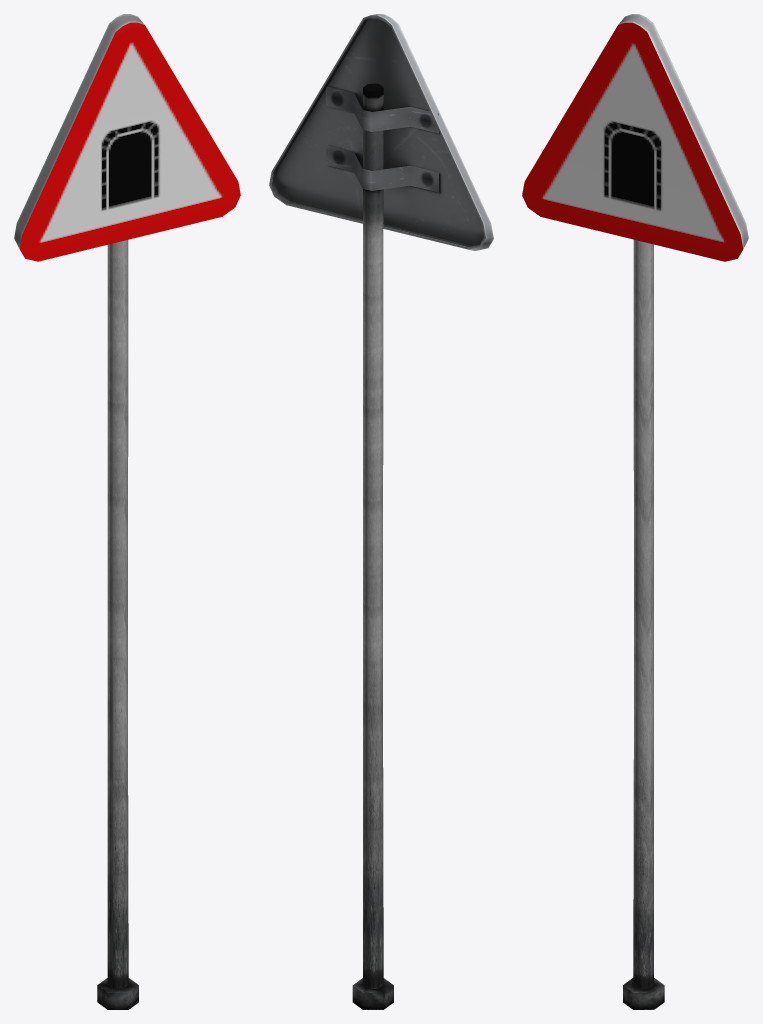
File: ROD0310093.FBX
The picture shows the model from 3 angles, left to right: view 1: azimuth 30°, elevation 25°; view 2: azimuth 150°, elevation 25°; view 3: azimuth 330°, elevation 25°; orthographic projection.
Parts seen in each view (by area): view 1: smROD0310093; view 2: smROD0310093; view 3: smROD0310093.
Part boxes in pixels (x1,y1,x2,y2): smROD0310093: (14, 14, 240, 1009); smROD0310093: (269, 14, 493, 1009); smROD0310093: (522, 14, 748, 1009).
Size of the model in its own units: 0.7052 by 3.02 by 0.1216.
Materials: 1 (1 with a texture image).
